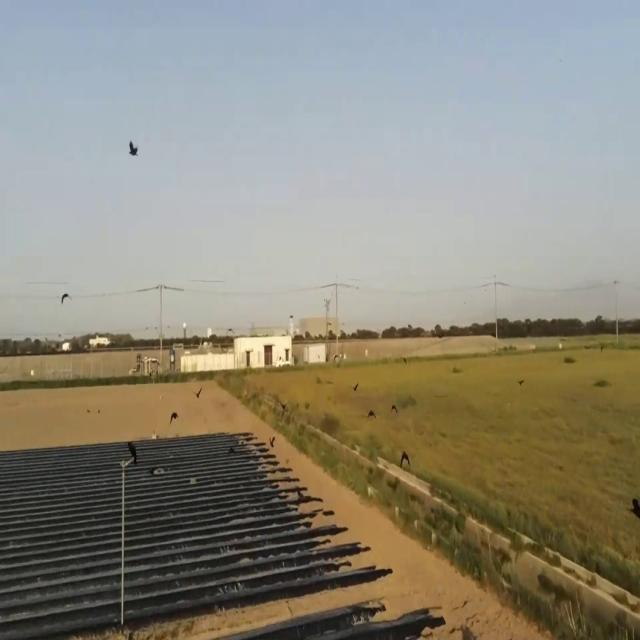bird: (400, 445, 412, 470), (128, 135, 138, 161), (60, 286, 70, 308), (169, 405, 179, 427), (195, 382, 204, 399), (268, 433, 276, 449)
